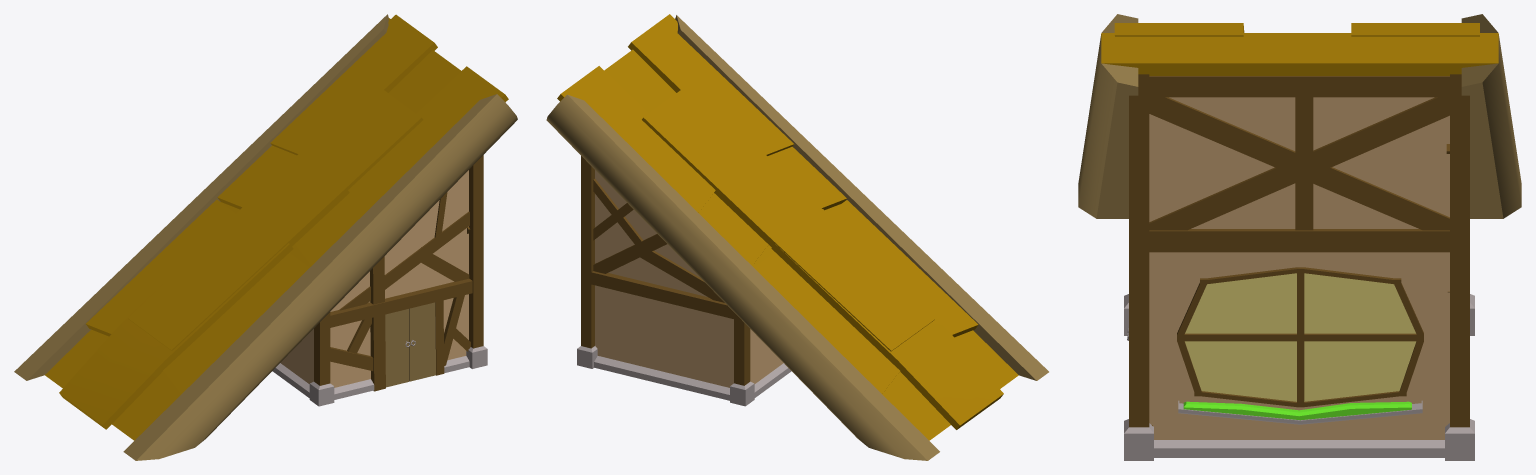
The model's file is mesh_Ramp_House1.fbx.
3 renders of one model, left to right at view 1: azimuth 30°, elevation 25°; view 2: azimuth 150°, elevation 25°; view 3: azimuth 270°, elevation 25°, orthographic. The views are drawn at different scales.
Parts seen in each view (by area): view 1: Ramp_House1; view 2: Ramp_House1; view 3: Ramp_House1.
Part boxes in pixels (box(x1,y1,x2,y2)): Ramp_House1: box(14, 14, 517, 460); Ramp_House1: box(546, 14, 1048, 460); Ramp_House1: box(1078, 14, 1521, 460).
Size of the model in its own units: 1292 by 868 by 764.
Materials: 1 (1 with a texture image).
